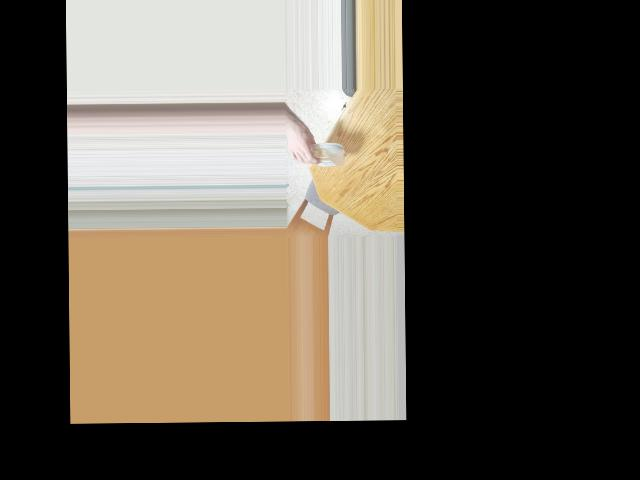cheese: (296, 135, 342, 174)
